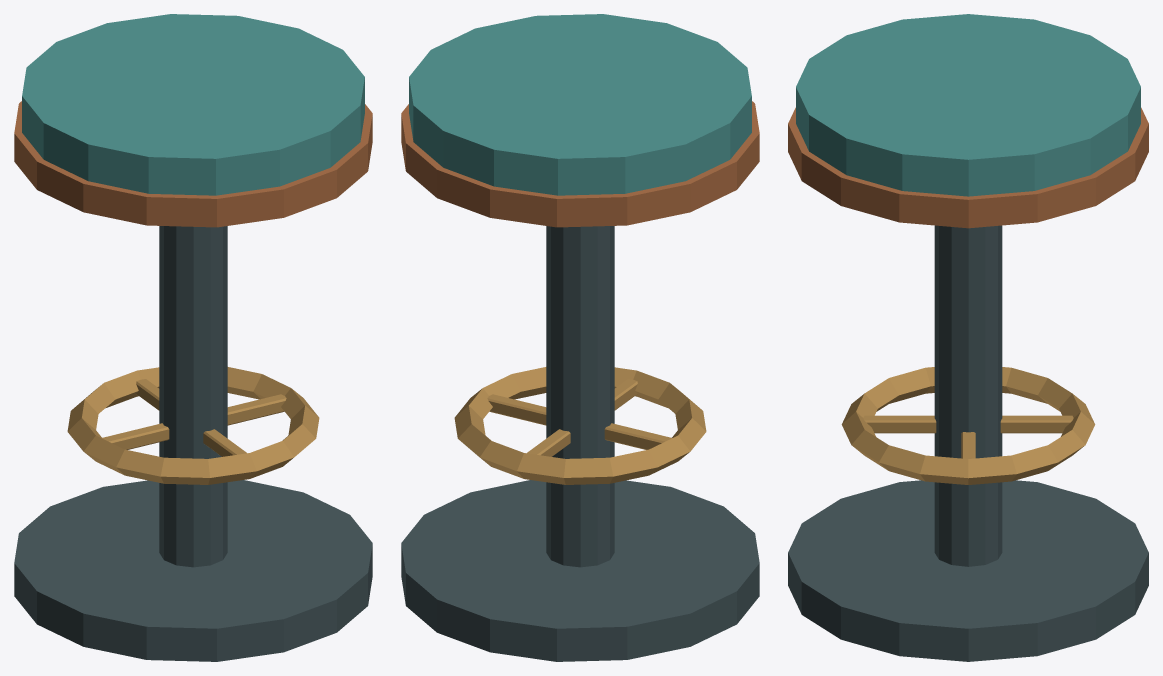
File: 07_Counter_Stool.glb
3 views of the same model, side by side, from view 1: azimuth 30°, elevation 25°; view 2: azimuth 150°, elevation 25°; view 3: azimuth 270°, elevation 25° (orthographic).
Parts seen in each view (by area): view 1: 07_Counter_Stool__Body; view 2: 07_Counter_Stool__Body; view 3: 07_Counter_Stool__Body.
Boxes of the visible parts, x1,y1,x2,y2 form: 07_Counter_Stool__Body: [14, 14, 372, 661]; 07_Counter_Stool__Body: [401, 14, 759, 661]; 07_Counter_Stool__Body: [788, 14, 1148, 661].
Bounding box in the file's own units: 1.38 × 2.1 × 1.38.
Materials: 1 (1 with a texture image).
